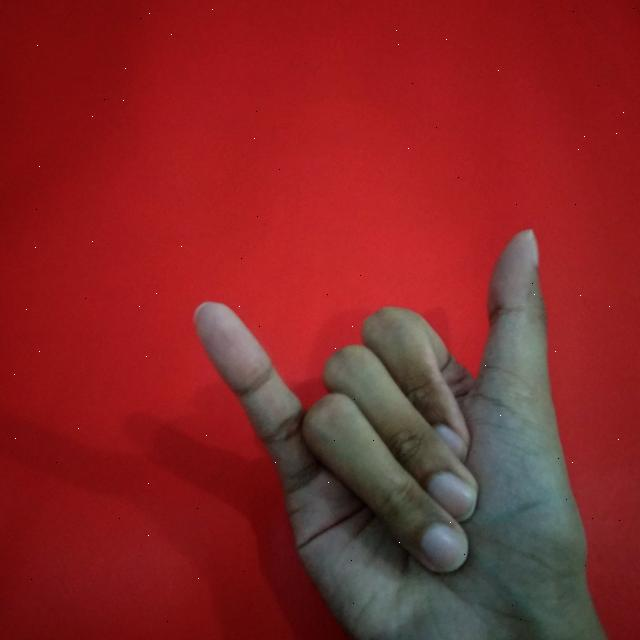Y: (178, 223, 609, 640)
